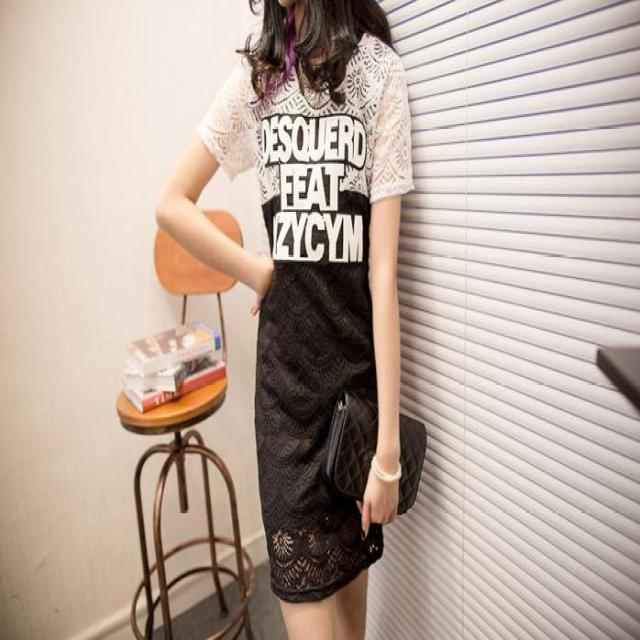short sleeve dress: (196, 23, 414, 590)
